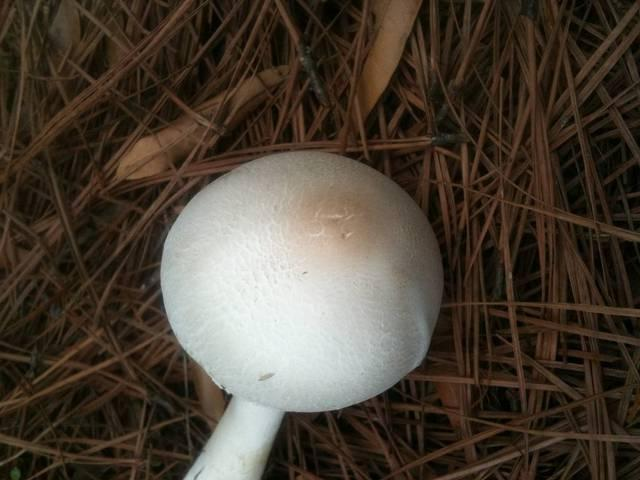Non-edible Mushroom: (158, 148, 445, 479)
